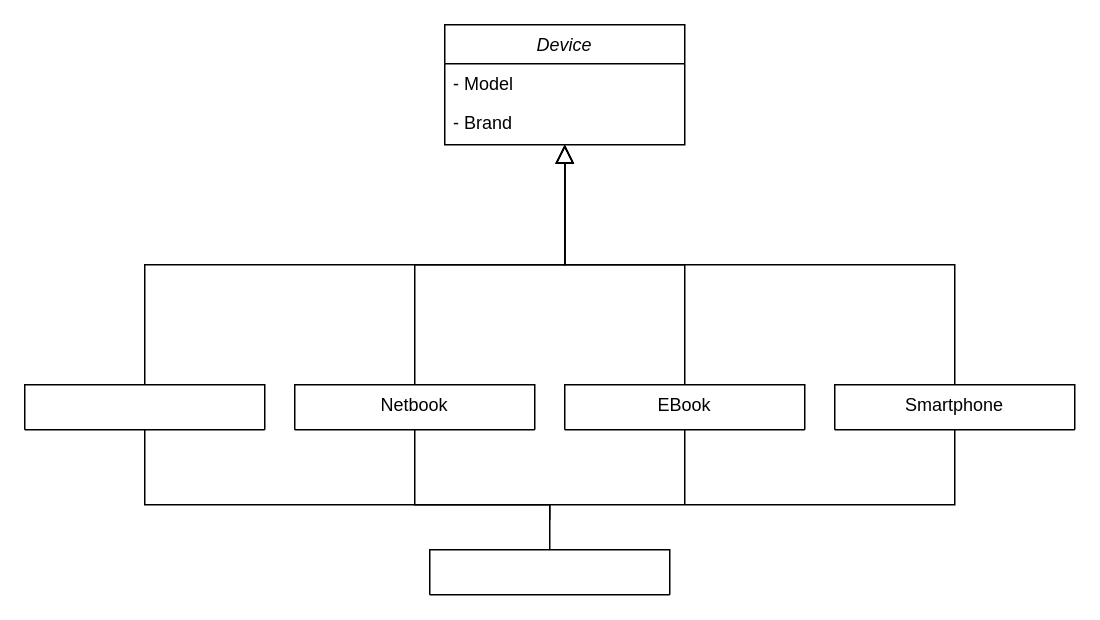
This 1100x620 diagram has some shape labels left out. Each missing label, with the centre of its shape:
DeviceFactory: (x=549, y=571)
Laptop: (x=144, y=406)
